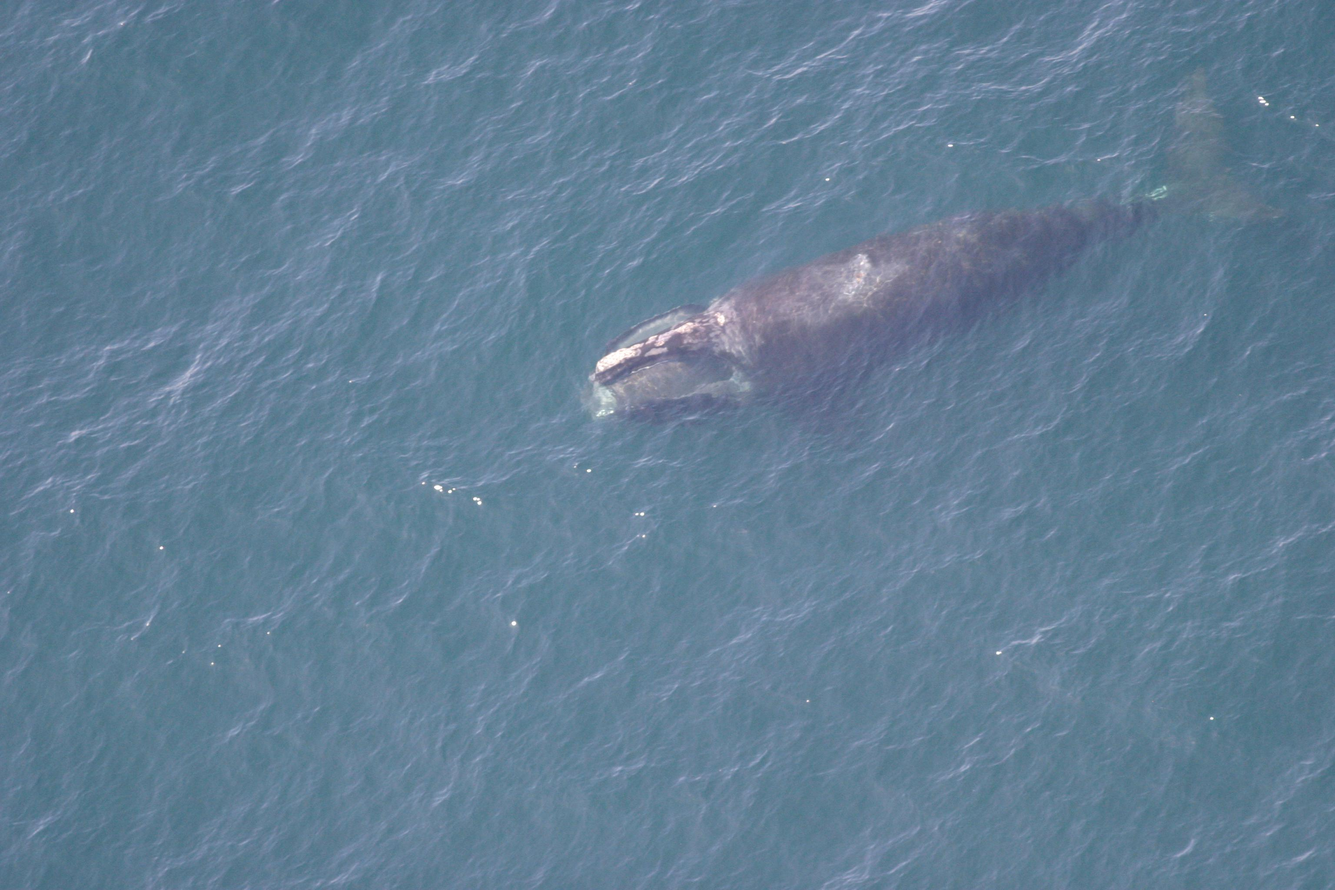whale: (571, 53, 1335, 450)
